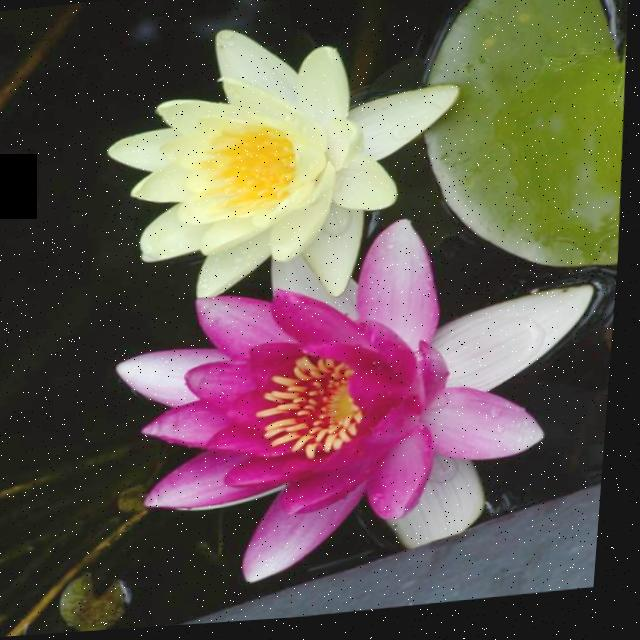rose: (4, 3, 573, 563), (69, 56, 109, 128)
